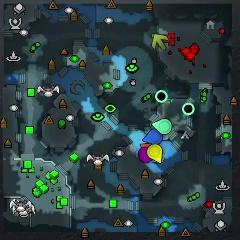p1: (143, 129, 163, 143)
p2: (152, 118, 172, 135)
p2Clone: (155, 90, 168, 103), (183, 102, 195, 115)
p3: (139, 147, 151, 163)
p4: (147, 144, 163, 164)
p5: (140, 141, 151, 149)
x2: (152, 34, 167, 51)
